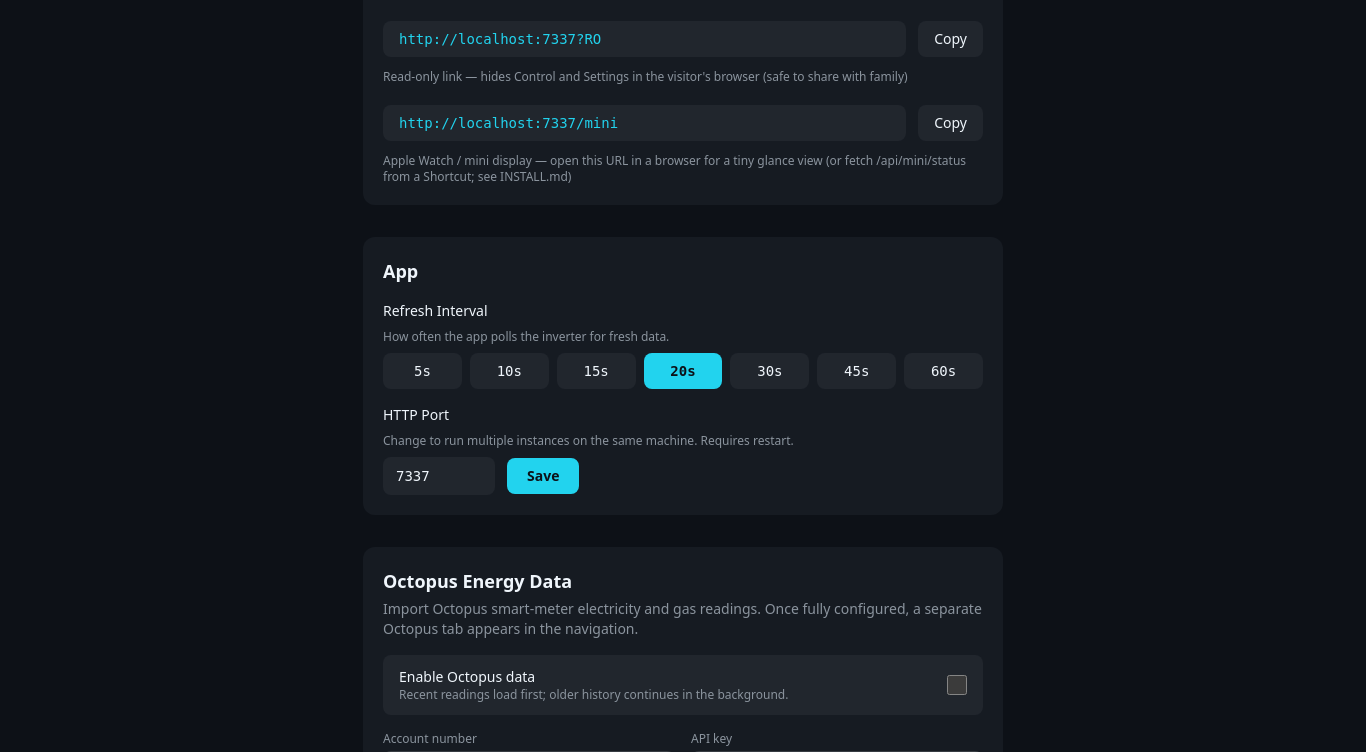
Scenario: <SettingsPage/> — save handlers & validation › refresh interval change › posts the new interval and flashes a success message
(page scrolled)
Expected: the text "Refresh Interval" is shown, left=383, top=301, right=488, bottom=320
Click the button "15s" at x=596, y=371, box left=557, top=353, right=636, bottom=389
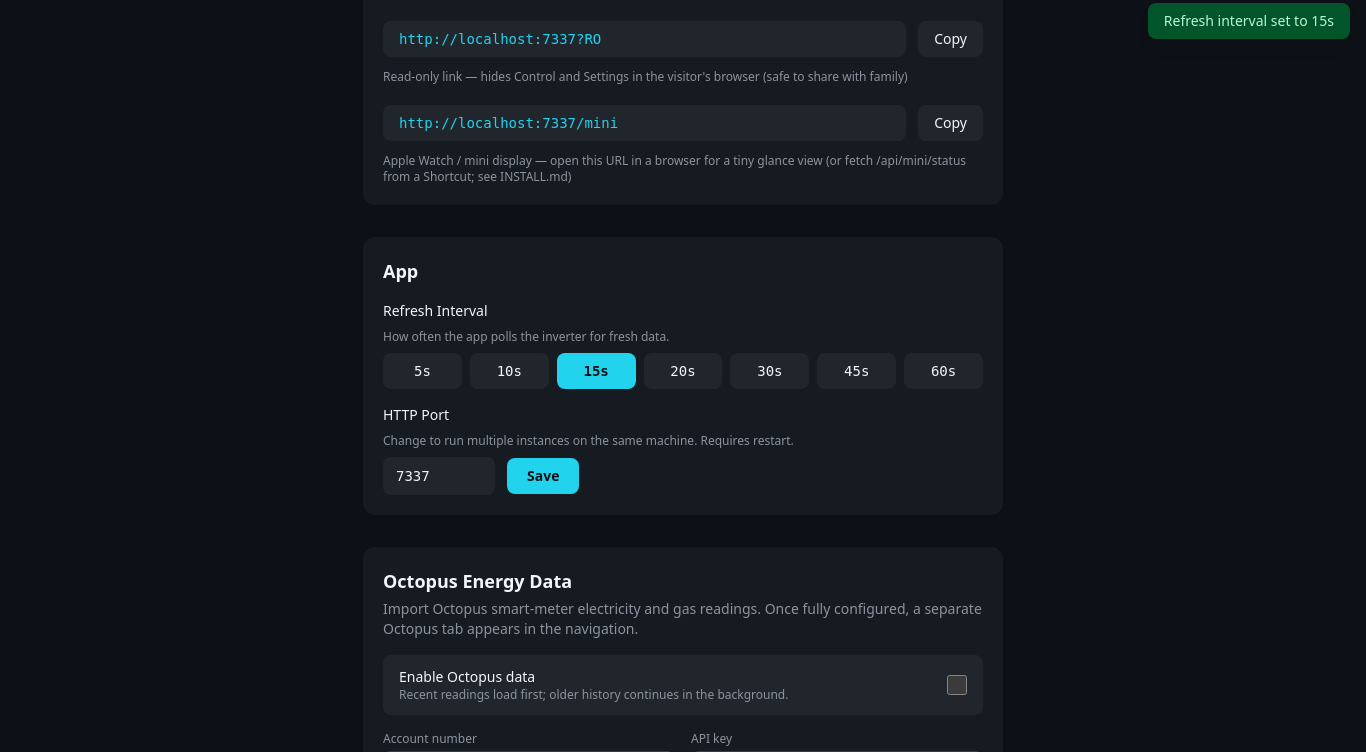
Expected: the text "Refresh interval set to 15s" is shown, left=1148, top=3, right=1350, bottom=39
